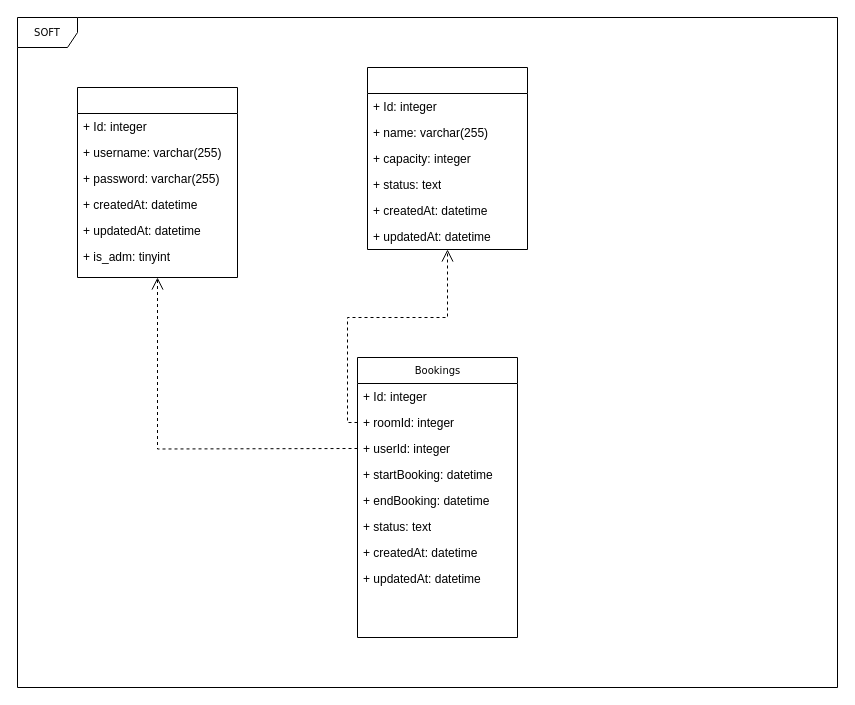
The diagram is 855 pixels wide and 705 high, and some of its shapes have lost their labels. The box of each missing label's shape, as (x1, y1, x2, y2) in pixels:
Rooms: (366, 66, 528, 250)
Users: (76, 86, 238, 278)
